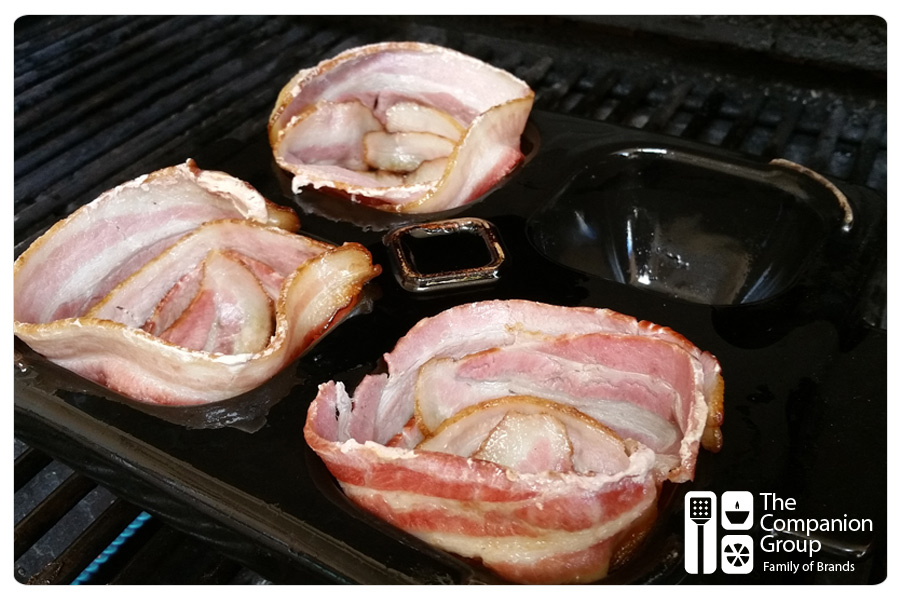bacon: (307, 305, 724, 543), (32, 144, 355, 401), (250, 48, 518, 205)
